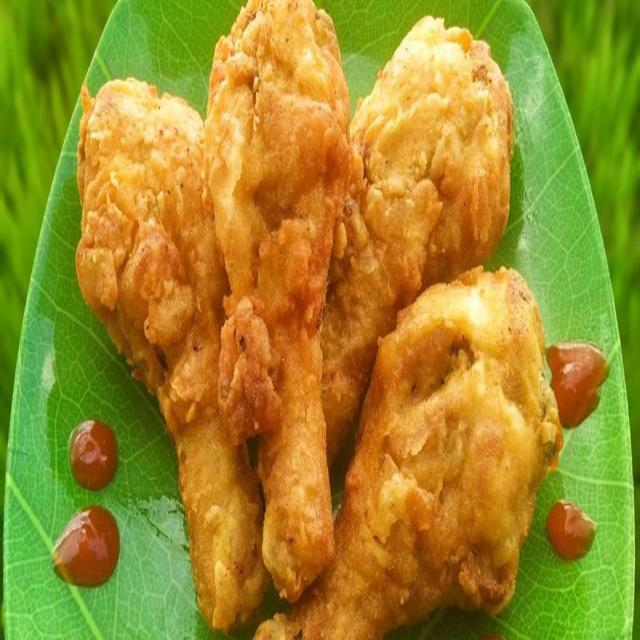Frango: (270, 19, 510, 493), (78, 74, 276, 640), (246, 265, 544, 640), (200, 0, 349, 577)
